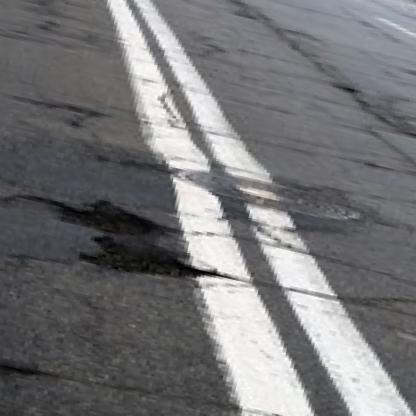pothole: (73, 226, 230, 298), (49, 189, 176, 248), (335, 83, 358, 95)
